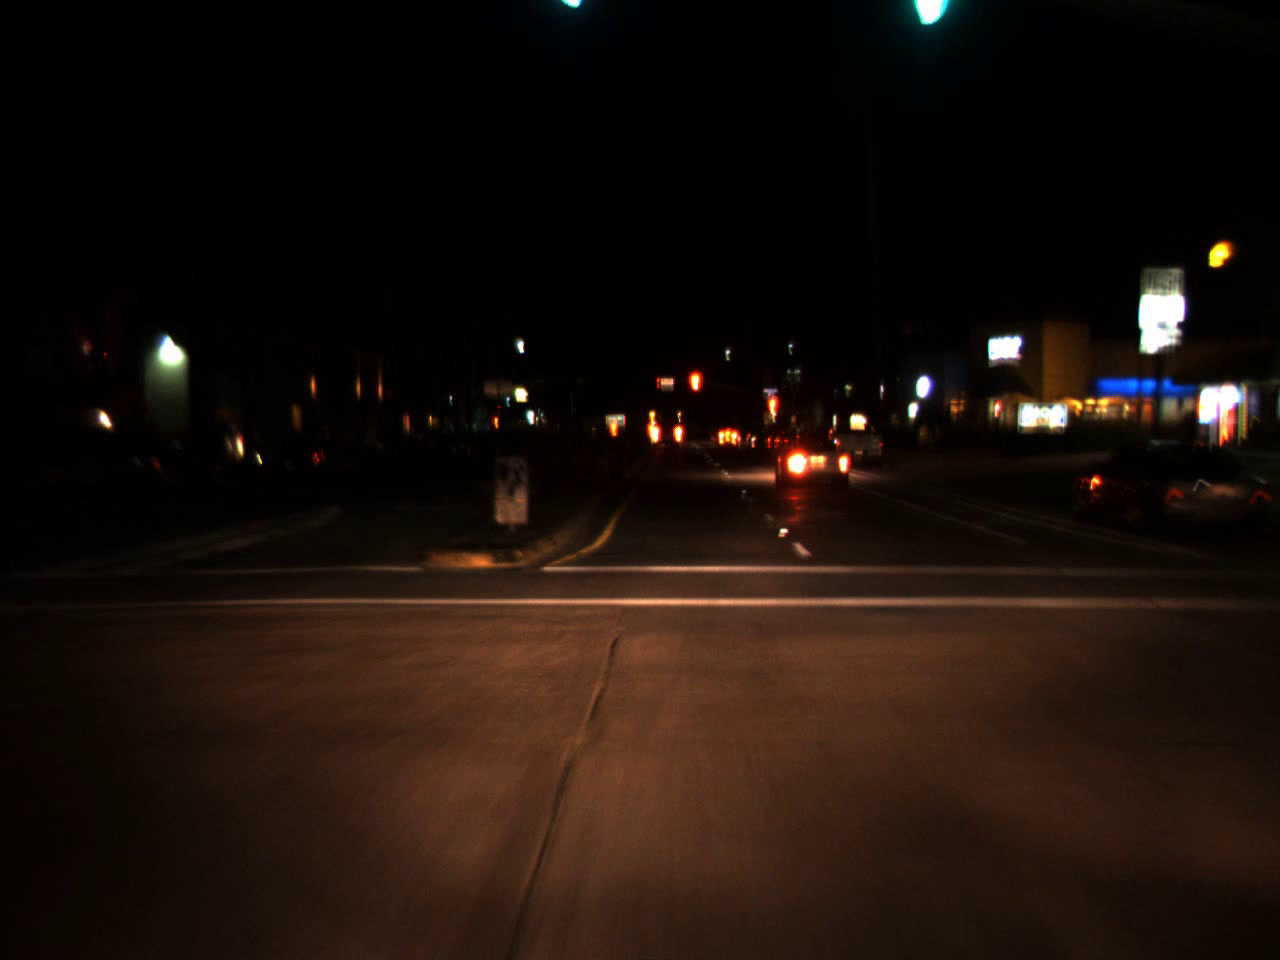go: (906, 0, 949, 33)
stop: (686, 368, 703, 413), (765, 391, 778, 436), (655, 375, 661, 388)
